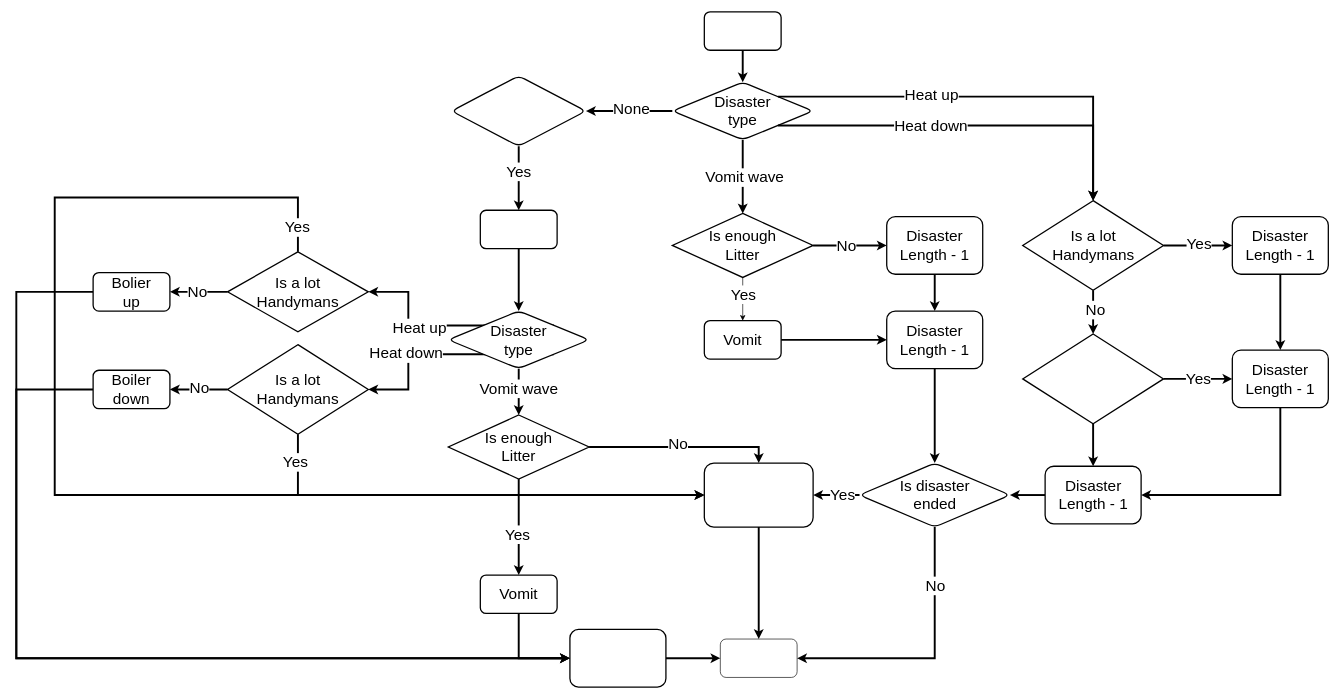
Image size: 1340x698. Some labels were removed from this diagram. The box of each missing label's shape, as (x1, y1, x2, y2) in pixels:
Choose disaster: (479, 209, 557, 249)
End: (720, 638, 797, 677)
Is enough Handymans: (1022, 333, 1164, 424)
Is it time for disaster: (451, 75, 586, 147)
Reset Disaster type: (703, 462, 813, 527)
Set Disaster Length: (569, 628, 666, 687)
Start: (703, 11, 781, 51)
